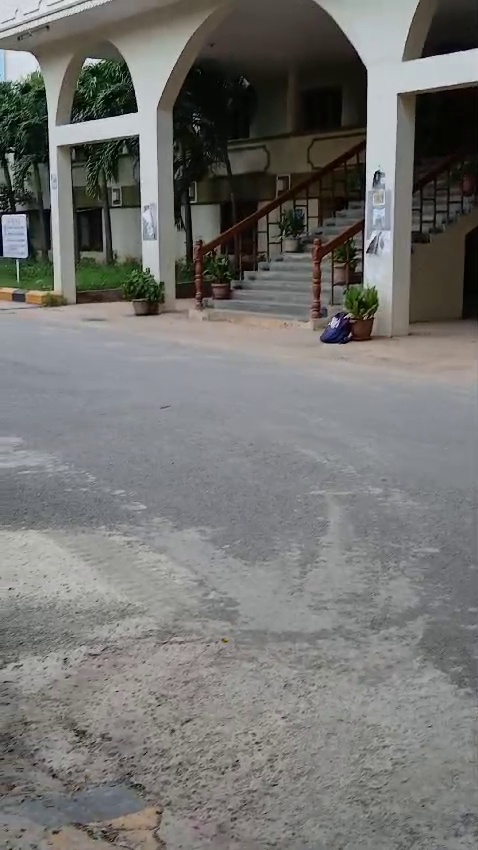bag: (312, 303, 361, 343)
